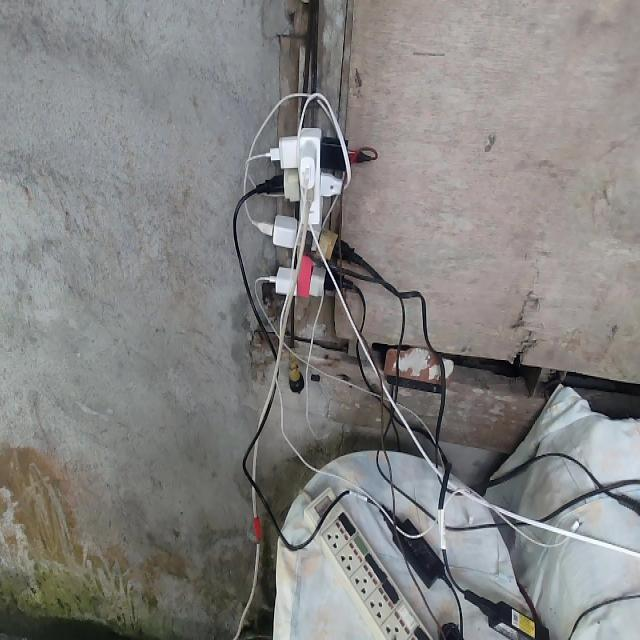-: (232, 125, 373, 296)
